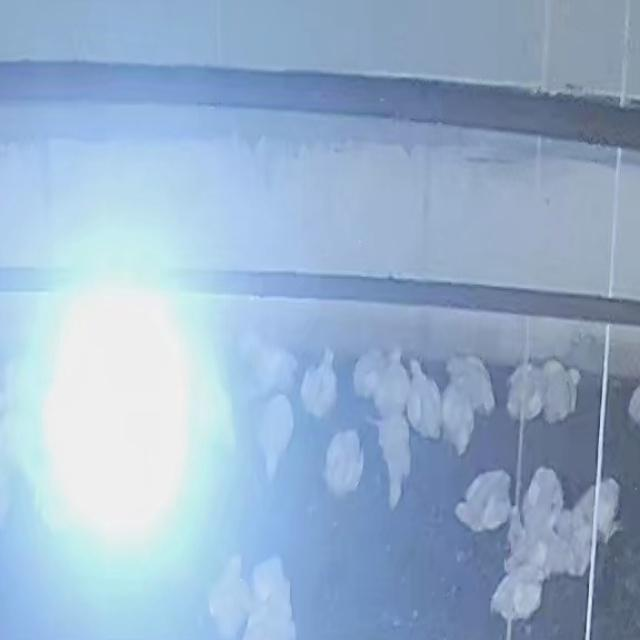chicken: (207, 552, 254, 638), (372, 413, 412, 508), (240, 335, 297, 399), (450, 470, 510, 530), (519, 466, 565, 540), (256, 396, 295, 482), (489, 566, 543, 627), (447, 353, 497, 418), (369, 349, 413, 419), (404, 358, 440, 441), (323, 428, 365, 499), (299, 347, 339, 420), (582, 477, 623, 542), (440, 381, 476, 455), (540, 518, 582, 580), (545, 358, 582, 422), (506, 362, 546, 421), (243, 594, 294, 639), (351, 346, 390, 402), (251, 554, 291, 607), (510, 536, 551, 580)
